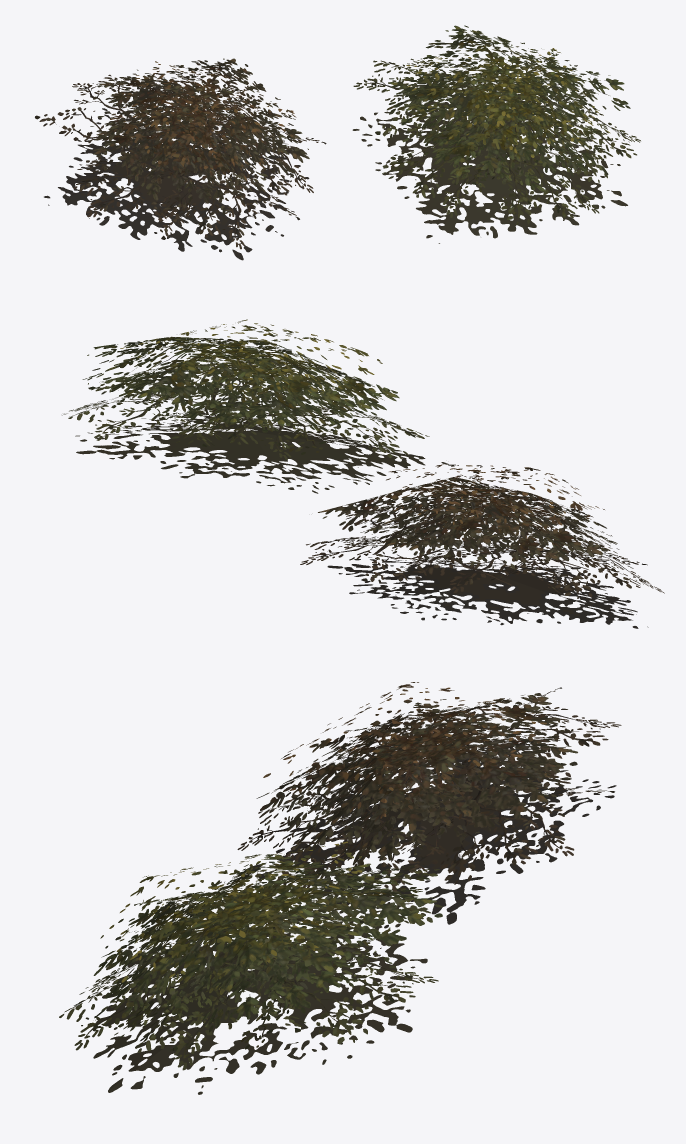
File: plants_bushes14.fbx
The picture shows the model from 3 angles, top to bottom: view 1: azimuth 30°, elevation 25°; view 2: azimuth 150°, elevation 25°; view 3: azimuth 270°, elevation 25°; orthographic projection. The views are drawn at different scales.
Parts seen in each view (by area): view 1: obj1.051; view 2: obj1.051; view 3: obj1.051.
Boxes of the visible parts, x1,y1,x2,y2 form: obj1.051: [35, 25, 640, 260]; obj1.051: [62, 319, 664, 628]; obj1.051: [59, 682, 621, 1094].
Size of the model in its own units: 10.22 by 2.39 by 7.35.
